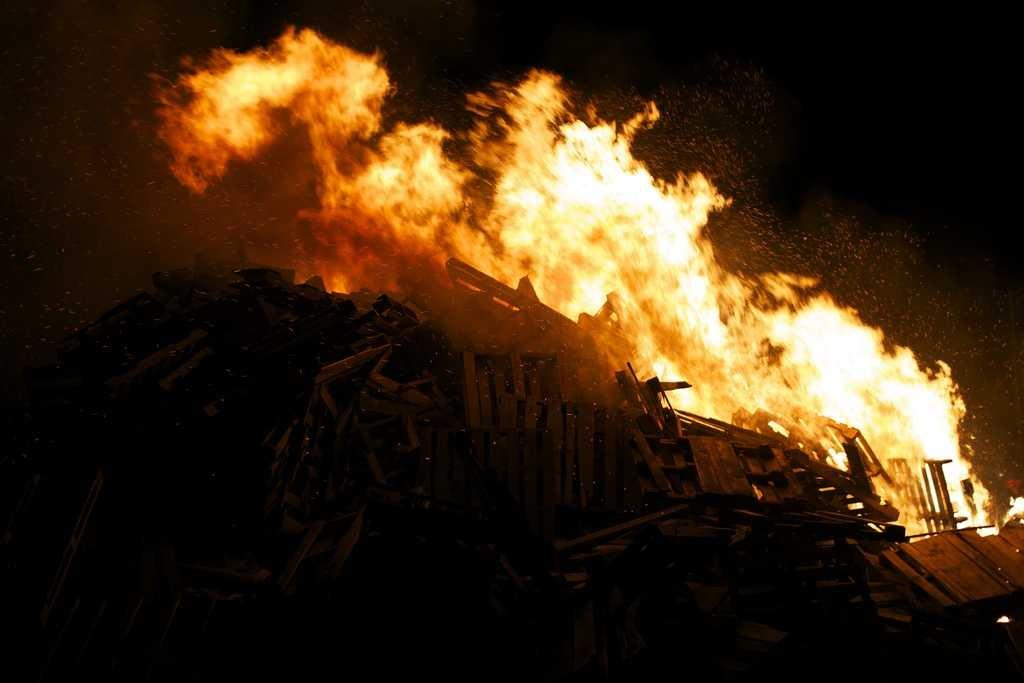fire: (498, 83, 748, 365), (180, 35, 472, 247), (766, 283, 982, 505)
